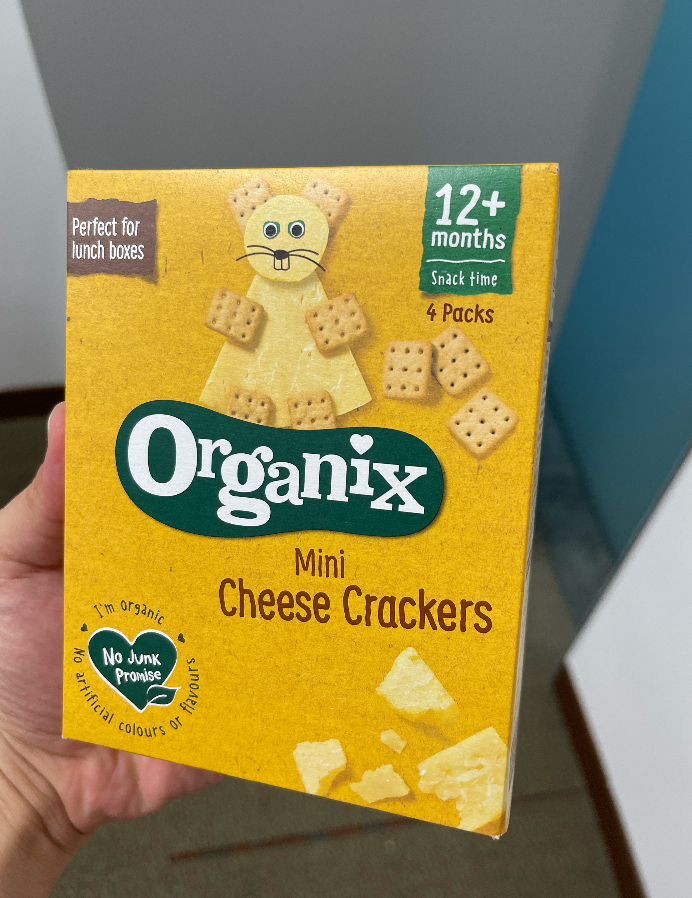crackers_1g-99g: (73, 168, 535, 771)
